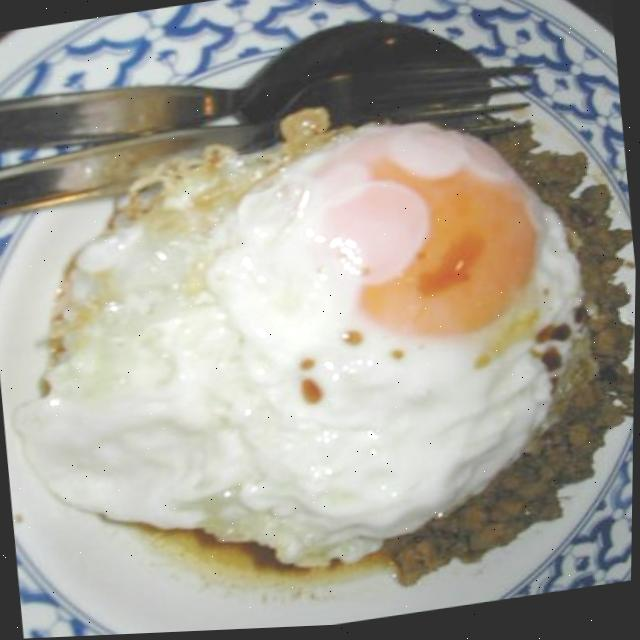鸡蛋料理: (24, 104, 591, 585)
